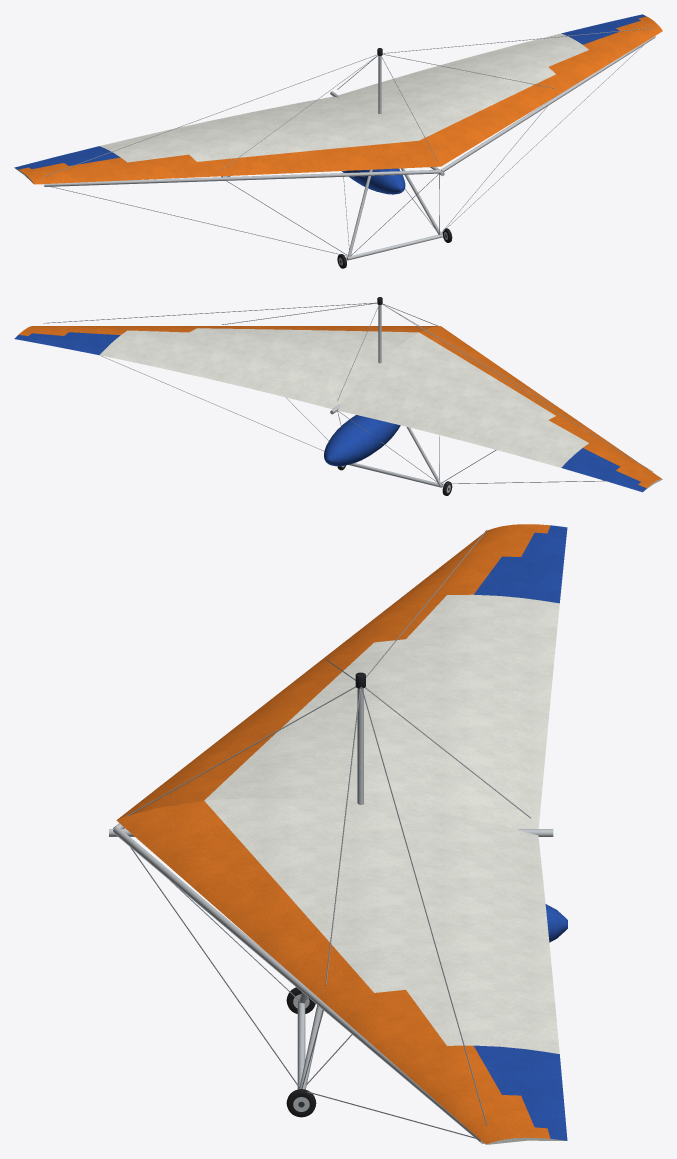
File: hang-glider.glb
3 renders of one model, top to bottom at view 1: azimuth 30°, elevation 25°; view 2: azimuth 150°, elevation 25°; view 3: azimuth 270°, elevation 25°, orthographic. The views are drawn at different scales.
Visible parts, largest first — view 1: Hang_Glider; view 2: Hang_Glider; view 3: Hang_Glider.
Part boxes in pixels (x1,y1,x2,y2): Hang_Glider: (14,14,662,260); Hang_Glider: (14,297,662,492); Hang_Glider: (109,524,567,1144).
Size of the model in its own units: 9.8 by 2.91 by 3.1.
8 materials, 3 textured.
